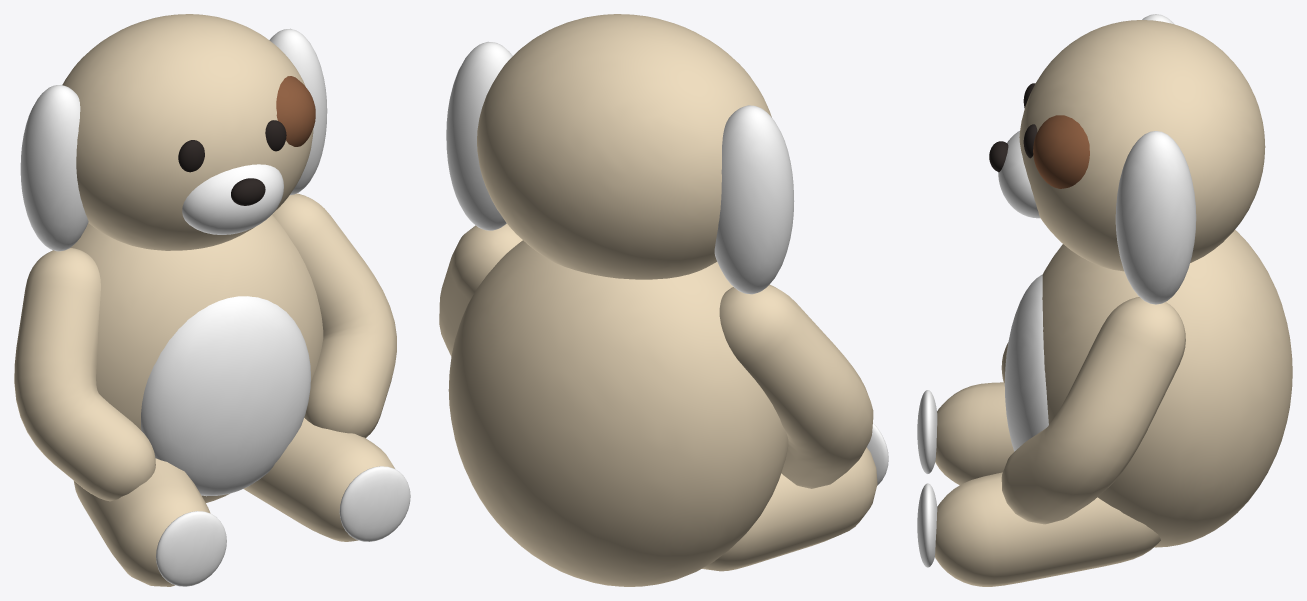
The model's file is deco_perro_grande.glb.
The picture shows the model from 3 angles, left to right: view 1: azimuth 30°, elevation 25°; view 2: azimuth 150°, elevation 25°; view 3: azimuth 270°, elevation 25°; orthographic projection. The views are drawn at different scales.
Visible parts, largest first — view 1: cabeza perro grande.001, barriga perro grande.001, panza perro grande.001, brazo.017, brazo.018, pierna.017, oreja perro.004, pierna.016, hocico.008, planta pata.017, planta pata.016, oreja perro.005 (+4 smaller); view 2: panza perro grande.001, cabeza perro grande.001, brazo.017, oreja perro.004, pierna.016, oreja perro.005, brazo.018, planta pata.016; view 3: panza perro grande.001, cabeza perro grande.001, brazo.018, pierna.017, oreja perro.005, pierna.016, barriga perro grande.001, mancha.001, hocico.008, planta pata.016, planta pata.017.
Part boxes in pixels (x1,y1,x2,y2): cabeza perro grande.001: [62, 14, 313, 250]; barriga perro grande.001: [141, 296, 310, 496]; panza perro grande.001: [70, 215, 323, 502]; brazo.017: [14, 248, 155, 501]; brazo.018: [272, 193, 396, 437]; pierna.017: [243, 418, 394, 541]; oreja perro.004: [20, 85, 88, 251]; pierna.016: [74, 458, 210, 586]; hocico.008: [182, 164, 283, 234]; planta pata.017: [339, 466, 410, 541]; planta pata.016: [156, 511, 226, 586]; oreja perro.005: [269, 28, 327, 195]; panza perro grande.001: [448, 240, 788, 586]; cabeza perro grande.001: [477, 14, 771, 279]; brazo.017: [719, 284, 873, 488]; oreja perro.004: [714, 105, 794, 294]; pierna.016: [702, 447, 877, 571]; oreja perro.005: [446, 41, 512, 230]; brazo.018: [439, 223, 522, 356]; planta pata.016: [867, 423, 888, 485]; panza perro grande.001: [1042, 230, 1292, 547]; cabeza perro grande.001: [1019, 20, 1265, 271]; brazo.018: [1001, 297, 1185, 524]; pierna.017: [935, 472, 1160, 586]; oreja perro.005: [1115, 131, 1196, 304]; pierna.016: [935, 382, 1013, 485]; barriga perro grande.001: [1004, 274, 1048, 451]; mancha.001: [1033, 115, 1089, 188]; hocico.008: [998, 131, 1040, 218]; planta pata.016: [917, 390, 937, 473]; planta pata.017: [917, 483, 937, 567].
Bounding box in the file's own units: 0.7651 × 0.9577 × 0.6519.
